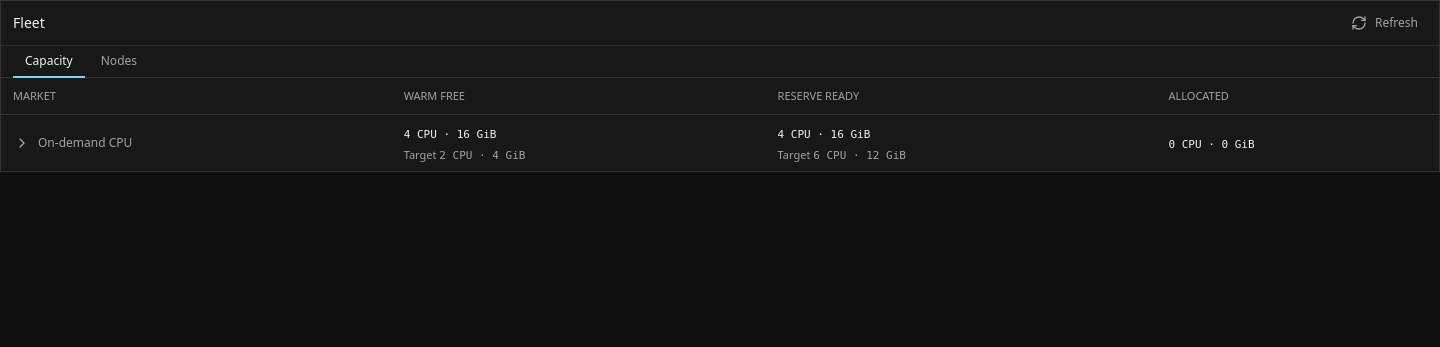
Test: shows each market's published targets and its states when expanded
Expected: the text "4 CPU · 16 GiB" is shown 2 times, [404,128,496,140]; [778,128,870,140]
Expected: the text "6 CPU · 12 GiB" is shown, [813,148,906,162]
Click the button "On-demand CPU": click(73, 143) [5,129,141,157]
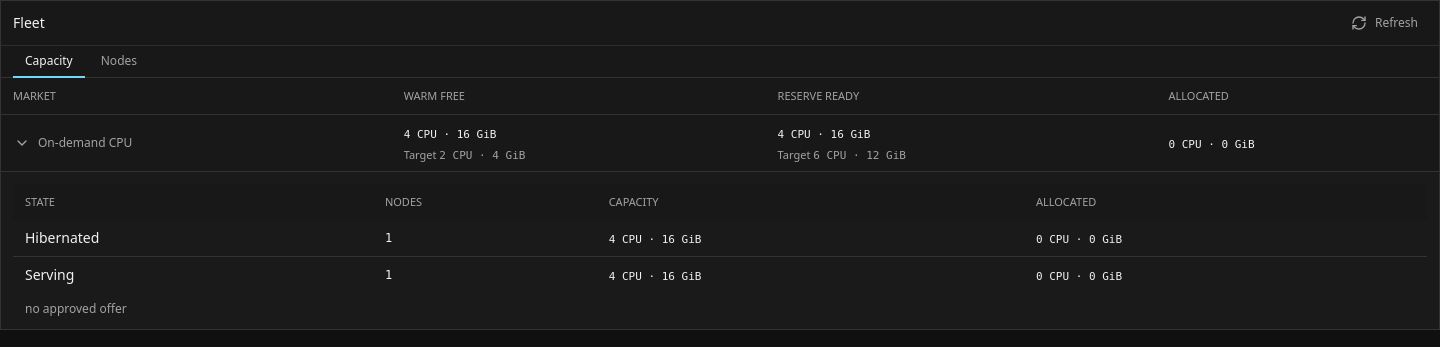
Result: the button "On-demand CPU" is expanded at [5,129,141,157]
Result: the text "Hibernated" is shown at [13,220,373,257]
Result: the text "Serving" is shown at [13,257,373,293]
